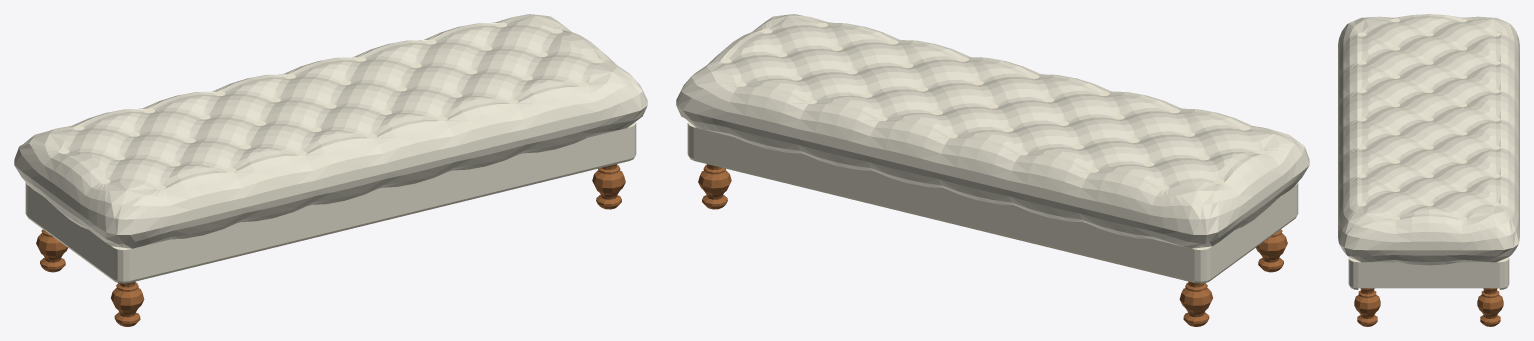
The model's file is scene_csXLd7SlP3.glb.
The picture shows the model from 3 angles, left to right: view 1: azimuth 30°, elevation 25°; view 2: azimuth 150°, elevation 25°; view 3: azimuth 270°, elevation 25°; orthographic projection. The views are drawn at different scales.
Parts seen in each view (by area): view 1: Node; view 2: Node; view 3: Node.
Boxes of the visible parts, x1,y1,x2,y2 form: Node: [14, 14, 647, 326]; Node: [676, 14, 1309, 326]; Node: [1338, 14, 1519, 326].
Bounding box in the file's own units: 54 × 13.25 × 19.
